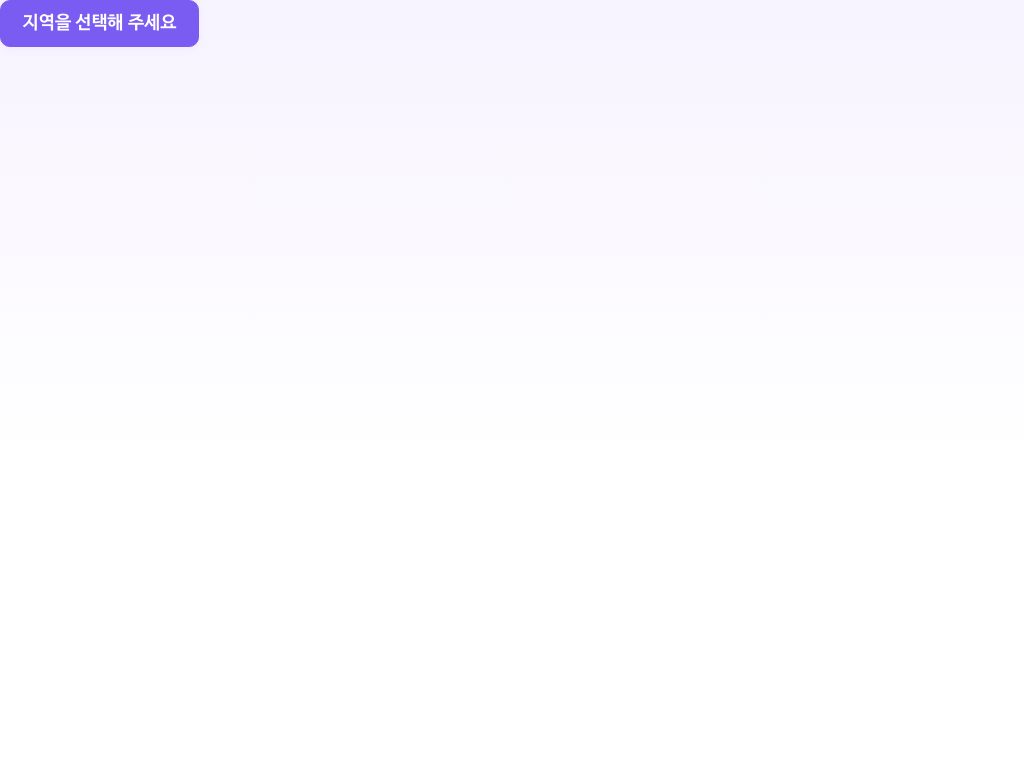
Test: the phone "찾을 도서관" sheet › a dialog named "찾을 도서관" with 거주, a handle, ⓧ and the my page line, and no other settings
Click the button "지역을 선택해 주세요". click: [100, 23]
box: top-left (0, 0), bottom-right (199, 47)
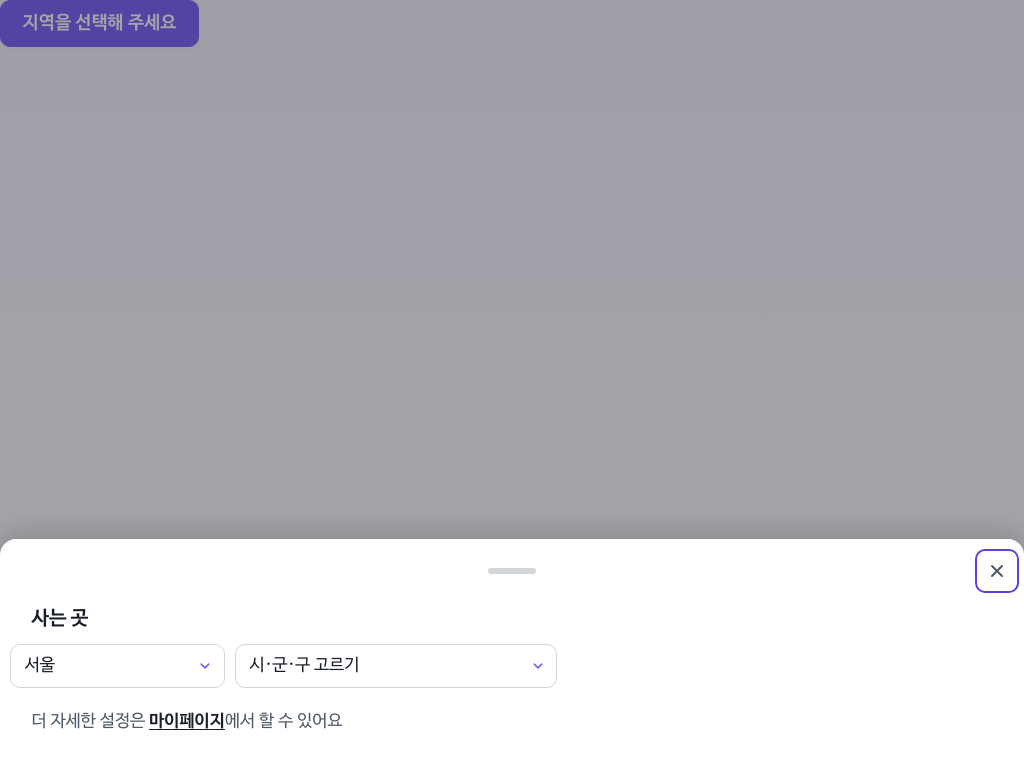
Now the element with test id "sheet-handle" is shown, box top-left (488, 568), bottom-right (536, 574)
Now the heading "사는 곳" is shown, box top-left (32, 607), bottom-right (88, 630)
Click the button named "닫기". click: [998, 571]
box: top-left (976, 549), bottom-right (1020, 593)
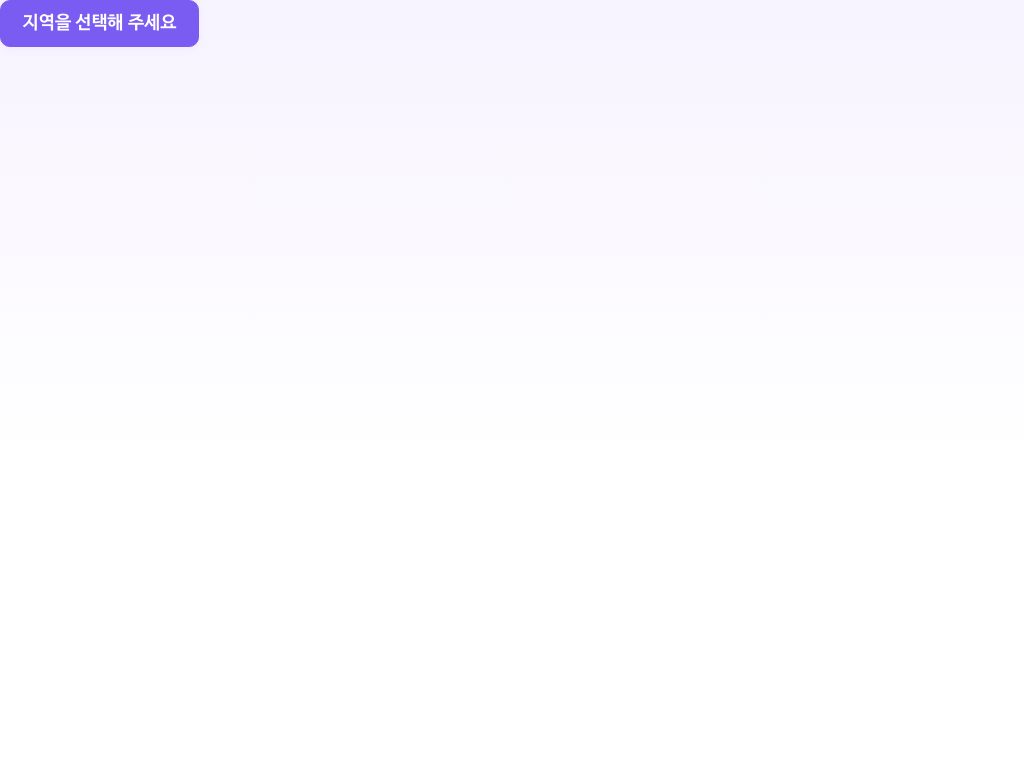
Now the dialog is gone
